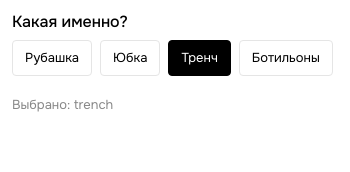
Test: ChipsDemo › releases the pressed chip and shows nothing chosen
Click the button "Тренч" at [200, 58], box [168,40,231,76]
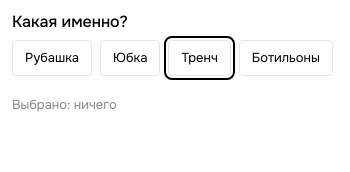
Expected: the text "Выбрано: ничего" is shown, [12,97,117,113]
